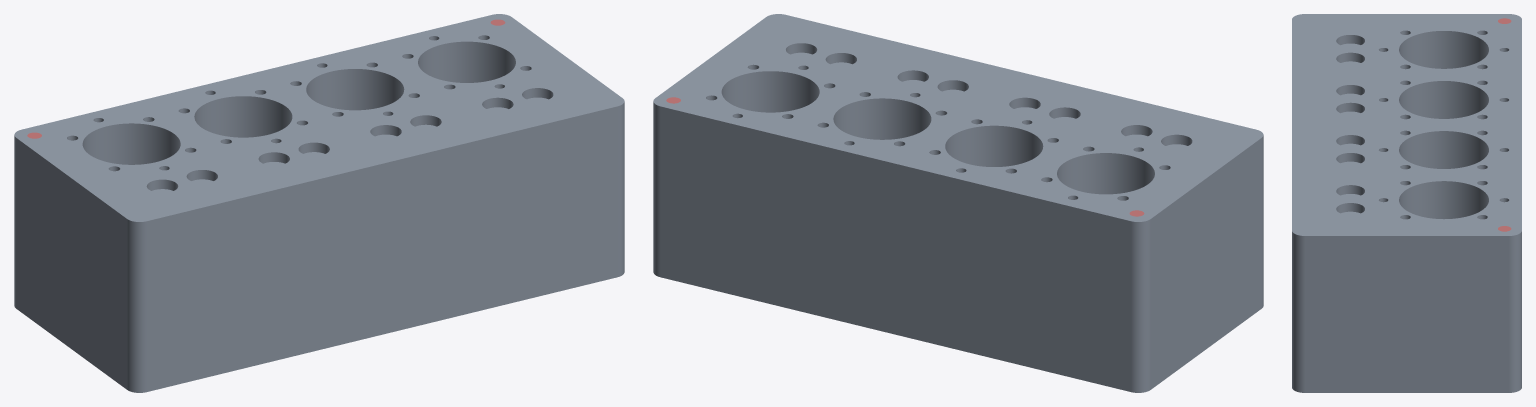
File: step_08.glb
3 views of the same model, side by side, from view 1: azimuth 30°, elevation 25°; view 2: azimuth 150°, elevation 25°; view 3: azimuth 270°, elevation 25° (orthographic). The views are drawn at different scales.
Visible parts, largest first — view 1: part__cylinder block (deck); view 2: part__cylinder block (deck); view 3: part__cylinder block (deck).
Boxes of the visible parts, x1,y1,x2,y2 form: part__cylinder block (deck): (14, 14, 624, 392); part__cylinder block (deck): (653, 14, 1263, 392); part__cylinder block (deck): (1292, 14, 1521, 392).
Bounding box in the file's own units: 546 × 180 × 239.
